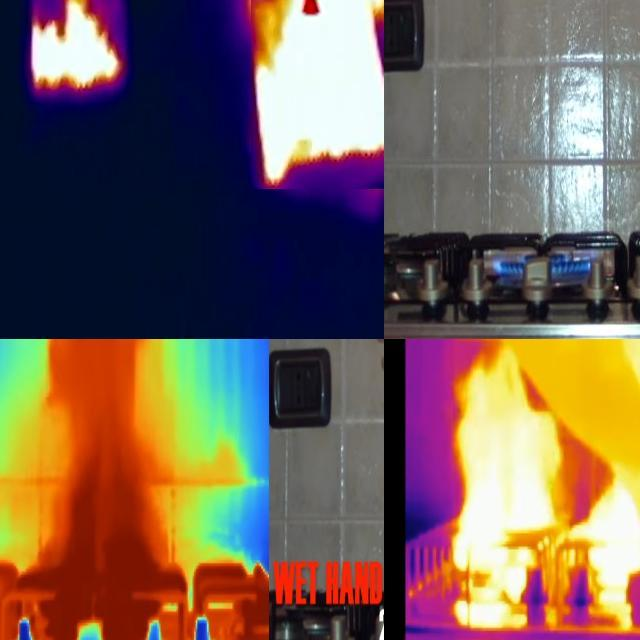fire: (252, 1, 385, 190), (451, 483, 559, 633), (29, 533, 187, 635), (29, 1, 124, 100)
